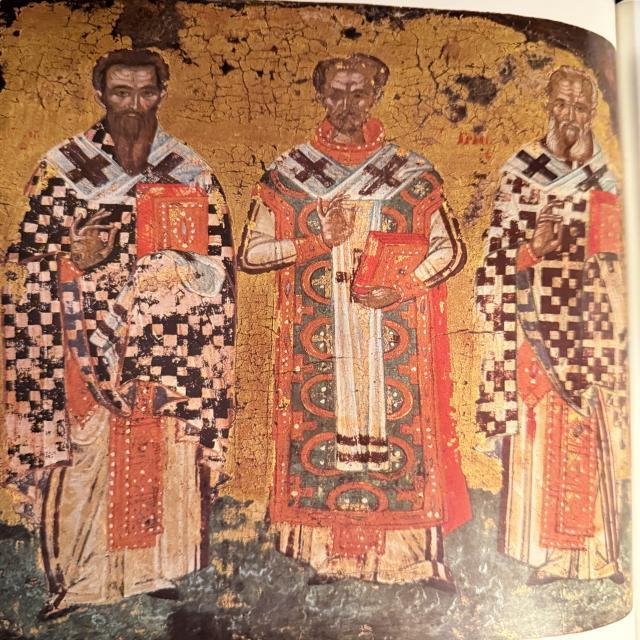book: (132, 178, 216, 259), (347, 231, 444, 299), (578, 187, 636, 262)
christ_hand: (290, 193, 363, 261), (56, 204, 124, 276), (510, 194, 576, 266)
church_father: (239, 36, 499, 594), (1, 40, 239, 620), (488, 52, 639, 583)
